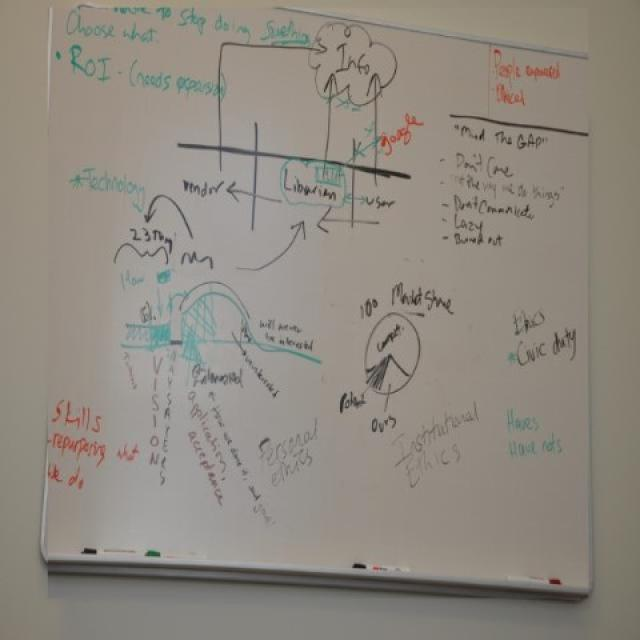White-board: (44, 6, 590, 593)
